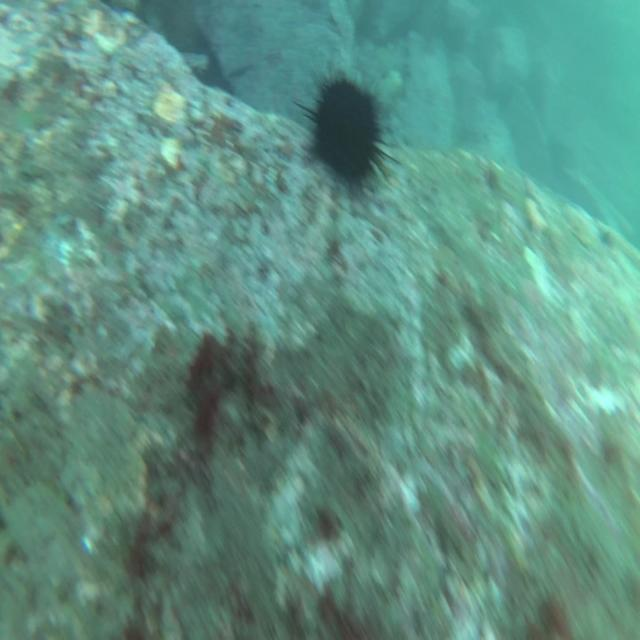starfish: (308, 59, 390, 183)
